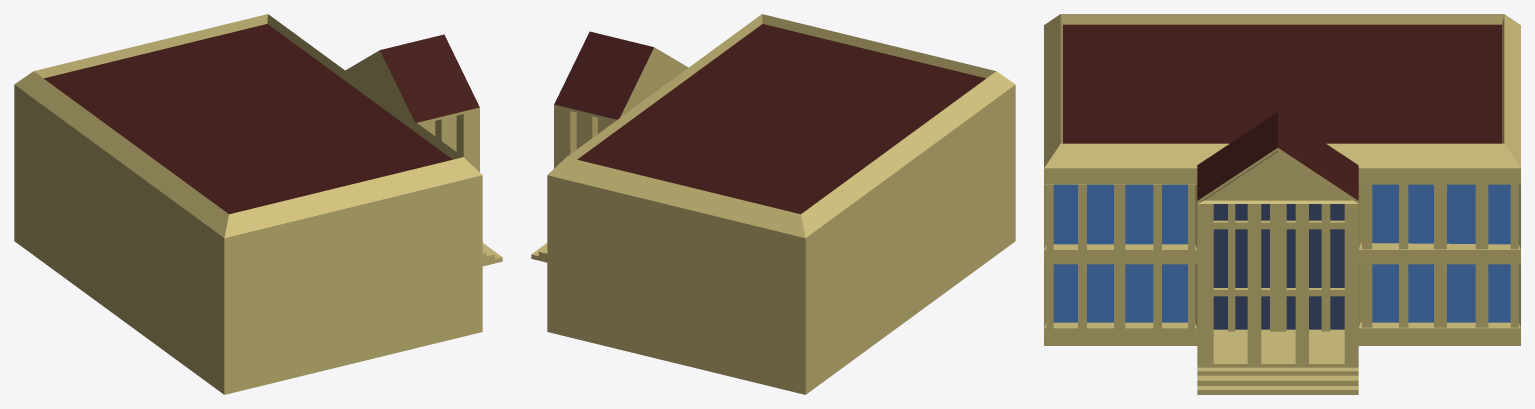
The model's file is coconut_1.fbx.
3 views of the same model, side by side, from view 1: azimuth 30°, elevation 25°; view 2: azimuth 150°, elevation 25°; view 3: azimuth 270°, elevation 25° (orthographic). The views are drawn at different scales.
Parts seen in each view (by area): view 1: CityHall; view 2: CityHall; view 3: CityHall.
Part boxes in pixels (bbox=[...]): CityHall: bbox=[14, 14, 502, 394]; CityHall: bbox=[531, 14, 1015, 394]; CityHall: bbox=[1044, 14, 1520, 394].
Bounding box in the file's own units: 23.09 × 13.2 × 24.3.
